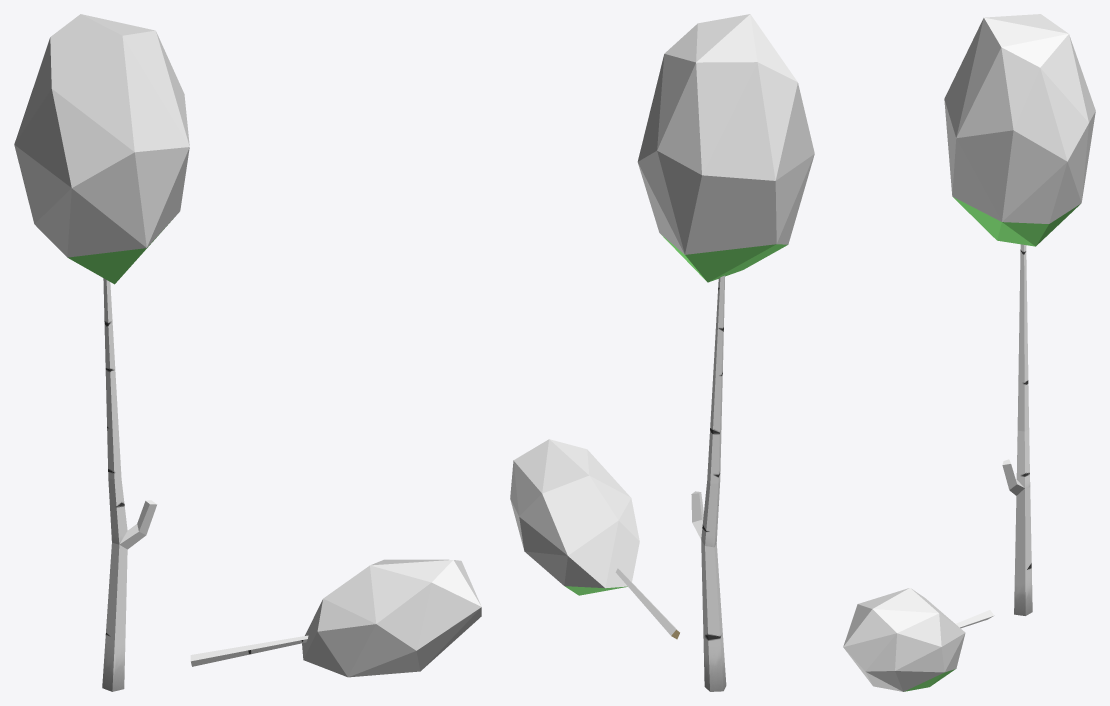
Rendered from Birch_Tree_crk_m_Snow_BT_01.fbx.
3 views of the same model, side by side, from view 1: azimuth 30°, elevation 25°; view 2: azimuth 150°, elevation 25°; view 3: azimuth 270°, elevation 25° (orthographic). The views are drawn at different scales.
Visible parts, largest first — view 1: Birch_Tree_crk_m_Snow_BT_01; view 2: Birch_Tree_crk_m_Snow_BT_01; view 3: Birch_Tree_crk_m_Snow_BT_01.
Part boxes in pixels (x1=…): Birch_Tree_crk_m_Snow_BT_01: x1=14, y1=14, x2=481, y2=691; Birch_Tree_crk_m_Snow_BT_01: x1=510, y1=14, x2=814, y2=691; Birch_Tree_crk_m_Snow_BT_01: x1=843, y1=14, x2=1095, y2=691.
Bounding box in the file's own units: 521 × 924 × 359.
